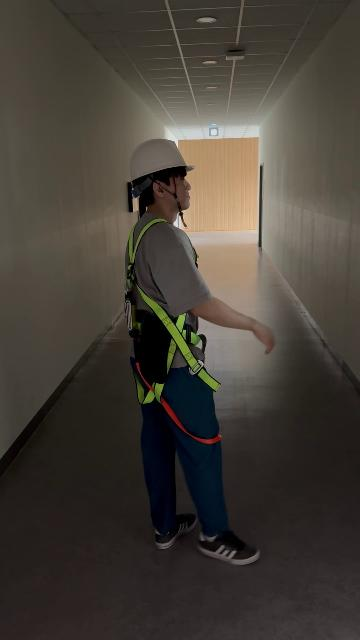helmet_worn: (130, 141, 196, 185)
shoe_not_worn: (195, 531, 258, 568), (155, 512, 199, 549)
vest_worn: (124, 221, 220, 402)
